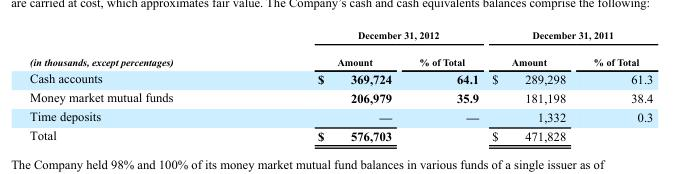table: (29, 29, 652, 142)
table column: (29, 29, 244, 142), (244, 29, 404, 142), (484, 29, 579, 142), (404, 29, 484, 142), (579, 29, 652, 142)
table column header: (29, 29, 652, 68)
table row: (29, 48, 652, 68), (29, 29, 652, 48), (29, 68, 652, 87), (29, 87, 652, 106), (29, 106, 652, 125), (29, 125, 652, 142)
table spanning cell: (29, 29, 244, 68), (244, 29, 484, 48), (484, 29, 652, 48)
